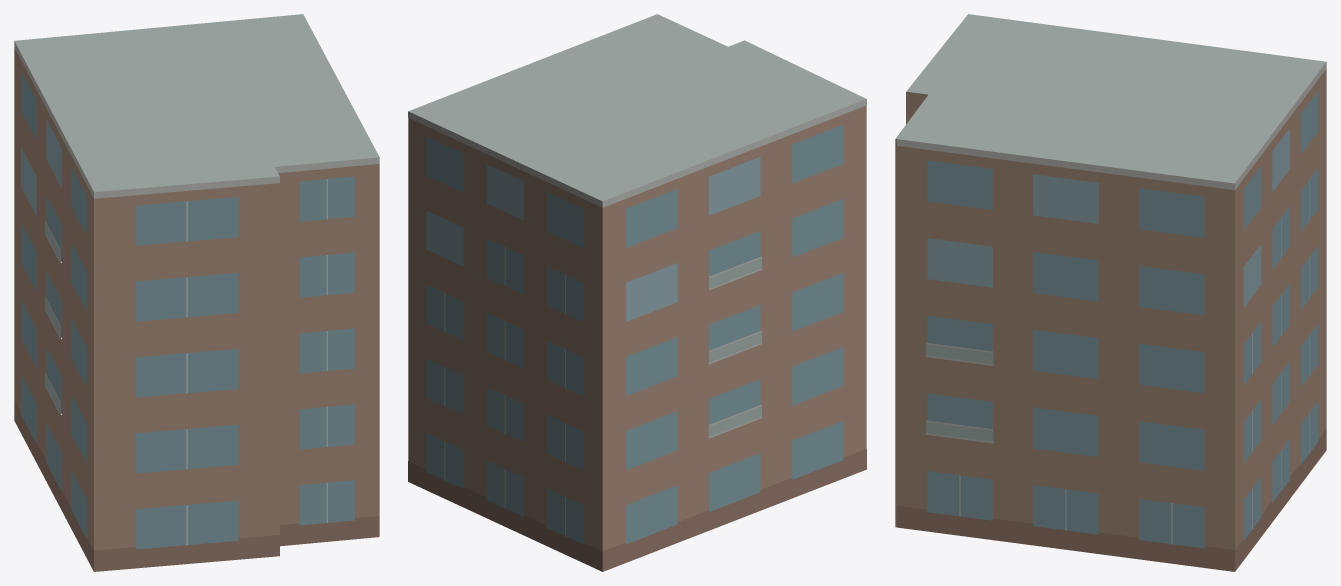
Rendered from survey-upis-32883511.glb.
3 views of the same model, side by side, from view 1: azimuth 30°, elevation 25°; view 2: azimuth 150°, elevation 25°; view 3: azimuth 270°, elevation 25° (orthographic). The views are drawn at different scales.
Visible parts, largest first — view 1: survey-upis-32883511.tmp; view 2: survey-upis-32883511.tmp; view 3: survey-upis-32883511.tmp.
Boxes of the visible parts, <box> form: survey-upis-32883511.tmp: <box>14,14,379,571</box>; survey-upis-32883511.tmp: <box>408,14,866,571</box>; survey-upis-32883511.tmp: <box>895,14,1326,571</box>.
Size of the model in its own units: 13.3 by 14.2 by 14.3.
